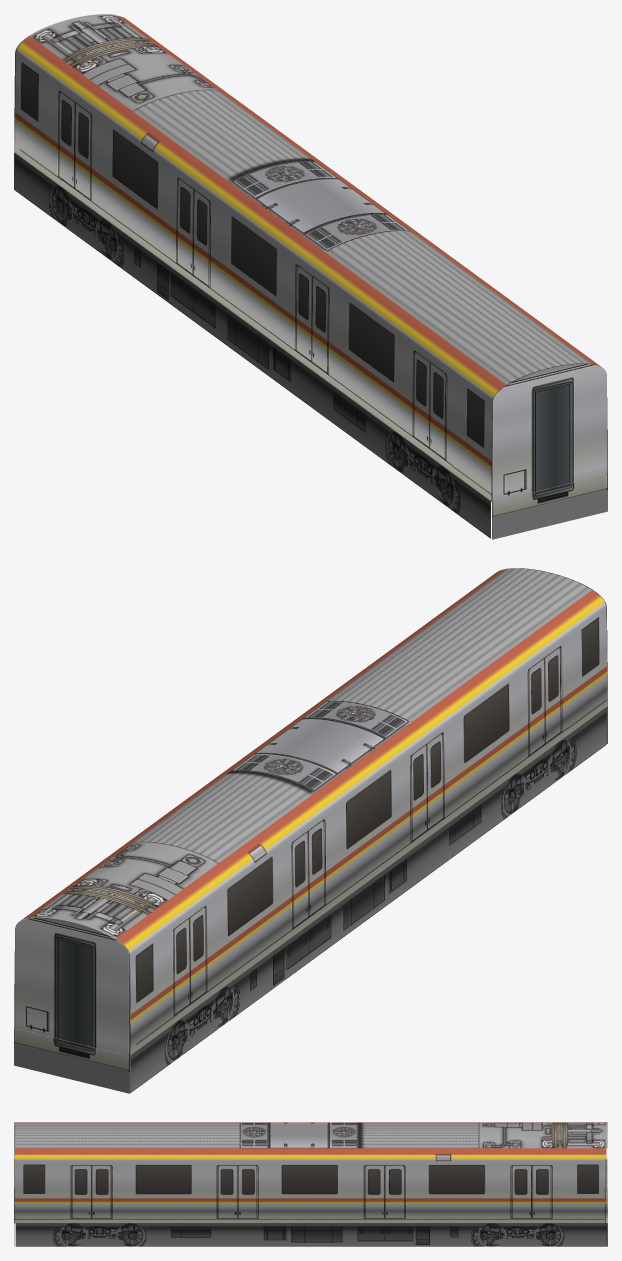
The model's file is car7.glb.
3 views of the same model, one above another, from view 1: azimuth 30°, elevation 25°; view 2: azimuth 150°, elevation 25°; view 3: azimuth 270°, elevation 25° (orthographic). The views are drawn at different scales.
Parts seen in each view (by area): view 1: tokyometro-17000-car7; view 2: tokyometro-17000-car7; view 3: tokyometro-17000-car7.
Part boxes in pixels (x1=…): tokyometro-17000-car7: x1=14, y1=14, x2=607, y2=539; tokyometro-17000-car7: x1=14, y1=568, x2=607, y2=1093; tokyometro-17000-car7: x1=14, y1=1122, x2=607, y2=1246.
Bounding box in the file's own units: 2.8 × 3.63 × 20.03.
Materials: 9 (8 with a texture image).
